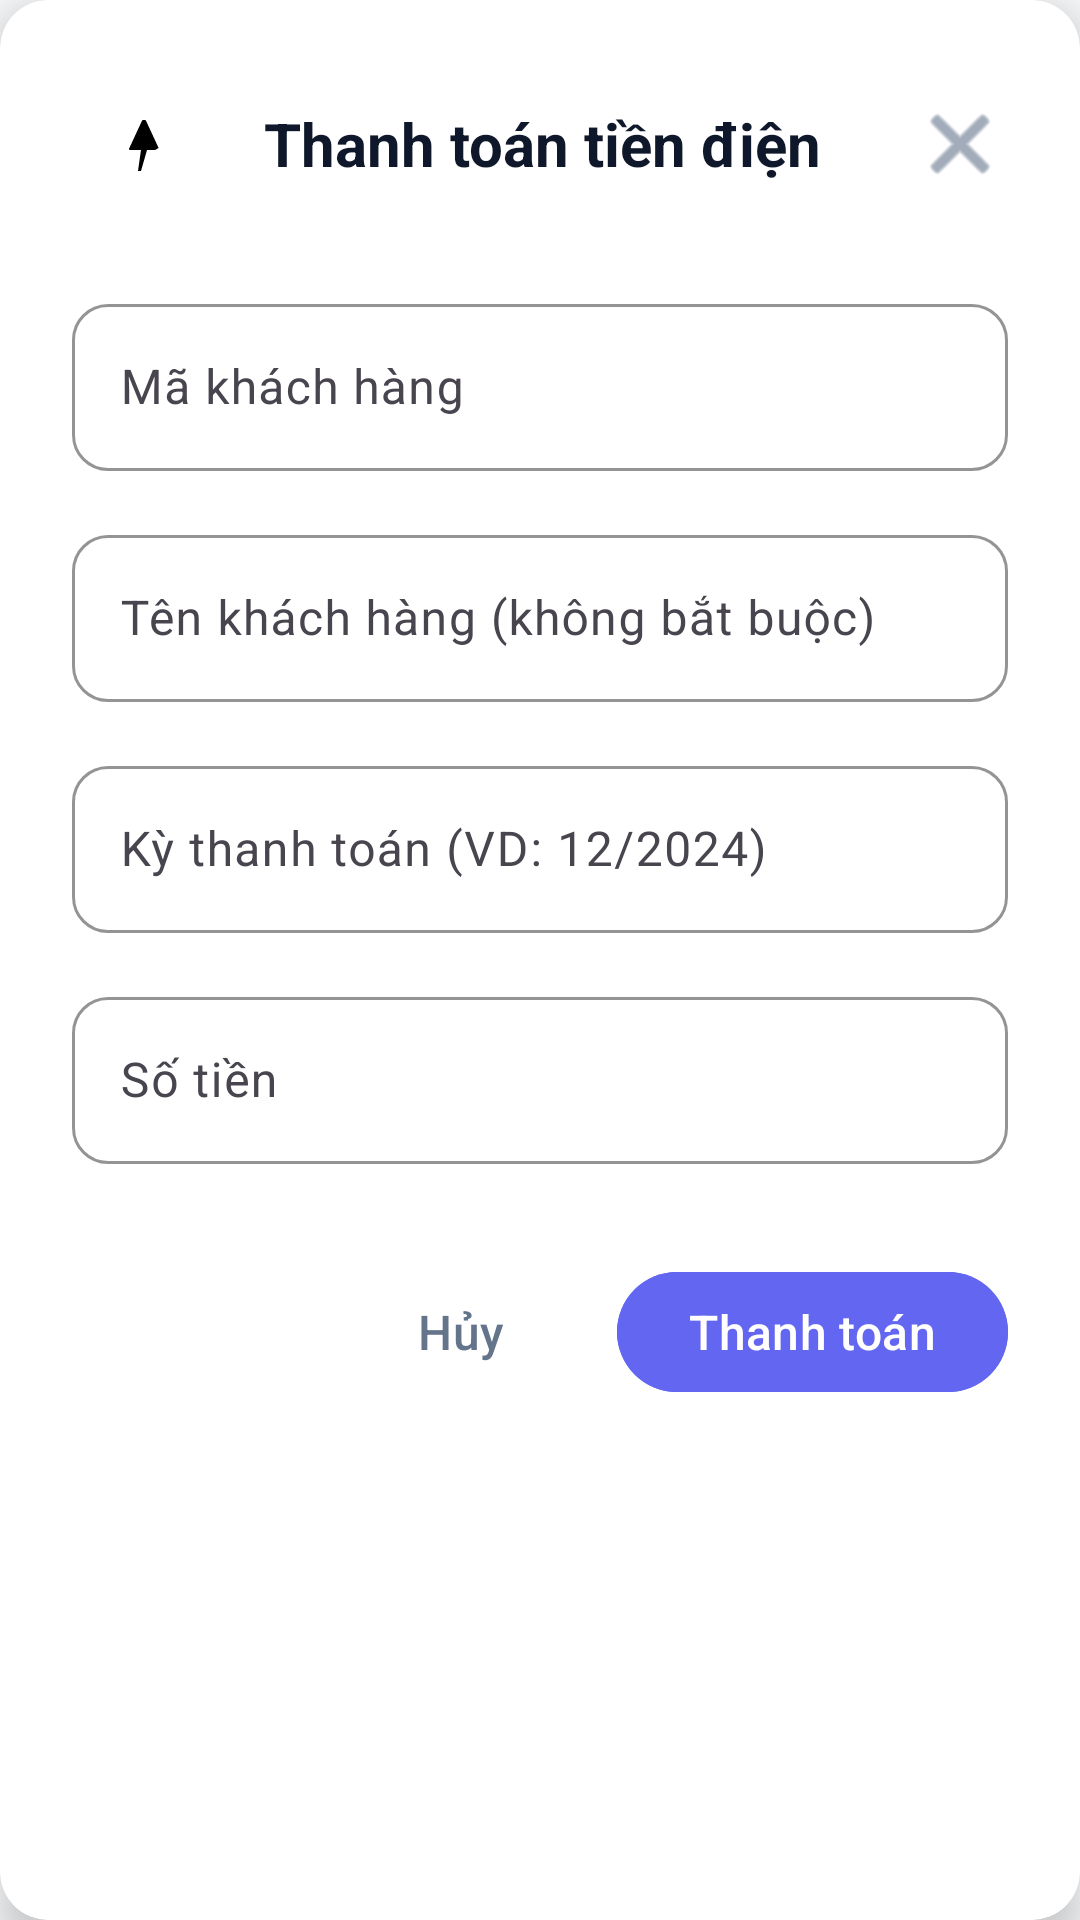

Locate icon controls on the screen. Image size 1080px×1920px, boxes as box=[x1, y1, x2, y2].
Đóng: box=[930, 114, 990, 174]
